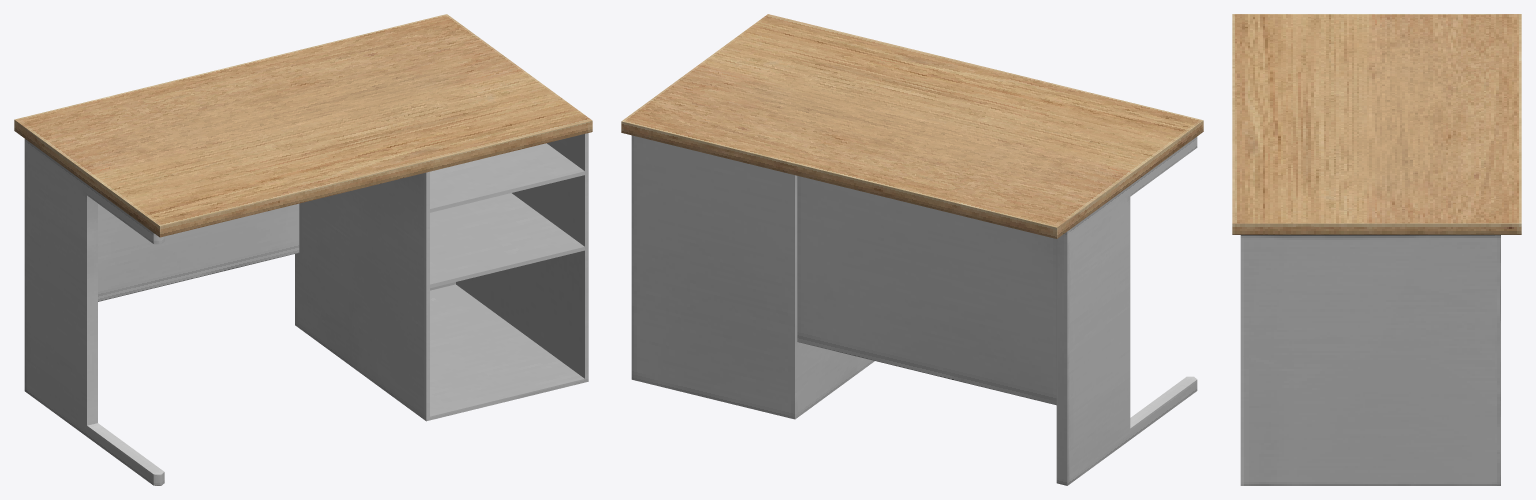
Rendered from Desk.glb.
3 views of the same model, side by side, from view 1: azimuth 30°, elevation 25°; view 2: azimuth 150°, elevation 25°; view 3: azimuth 270°, elevation 25° (orthographic).
Visible parts, largest first — view 1: desk; view 2: desk; view 3: desk.
Boxes of the visible parts, <box> form: desk: <box>14,14,592,485</box>; desk: <box>621,14,1203,485</box>; desk: <box>1232,14,1521,485</box>.
Size of the model in its own units: 1.2 by 0.7 by 0.7.
1 material, 1 textured.
